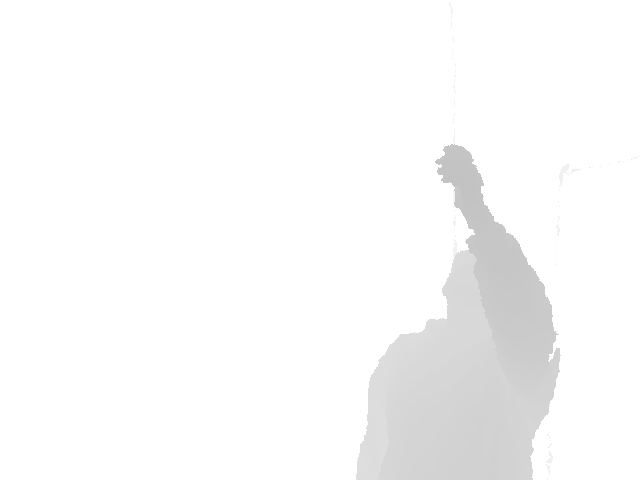hand: (435, 141, 487, 203)
head: (440, 248, 491, 317)
person: (354, 142, 562, 480)
